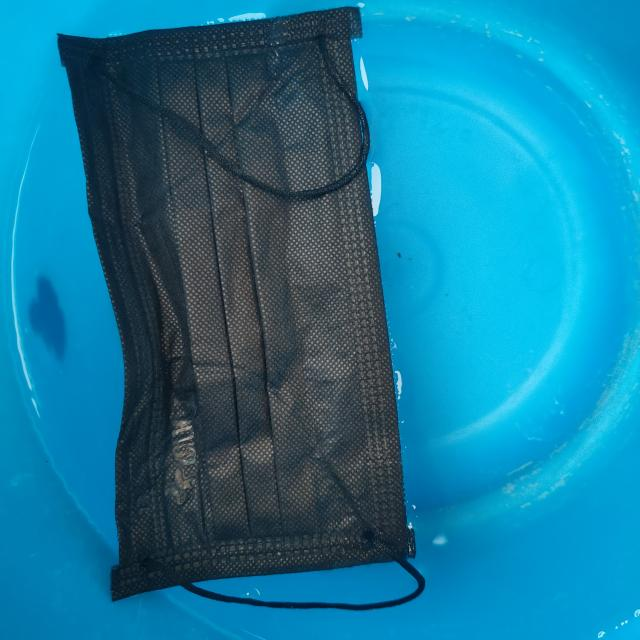mask: (51, 28, 434, 640)
